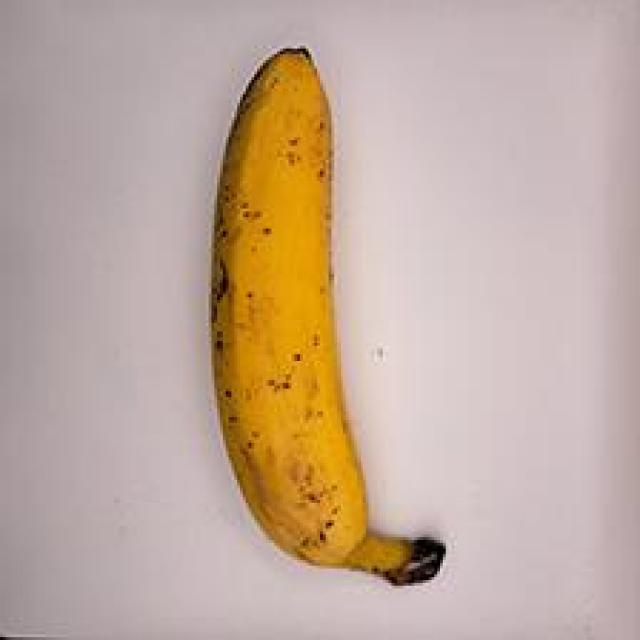Overripe: (177, 31, 474, 604)
